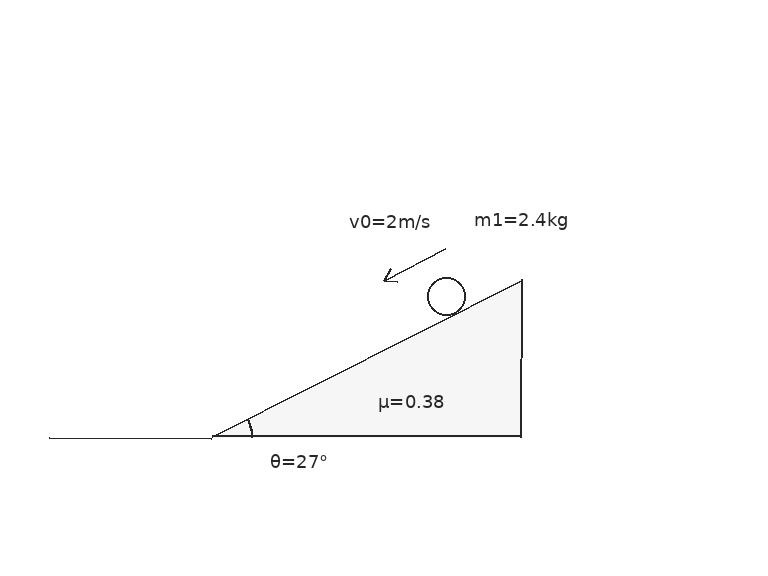ball: (425, 275, 467, 317)
ramp: (210, 278, 522, 439)
